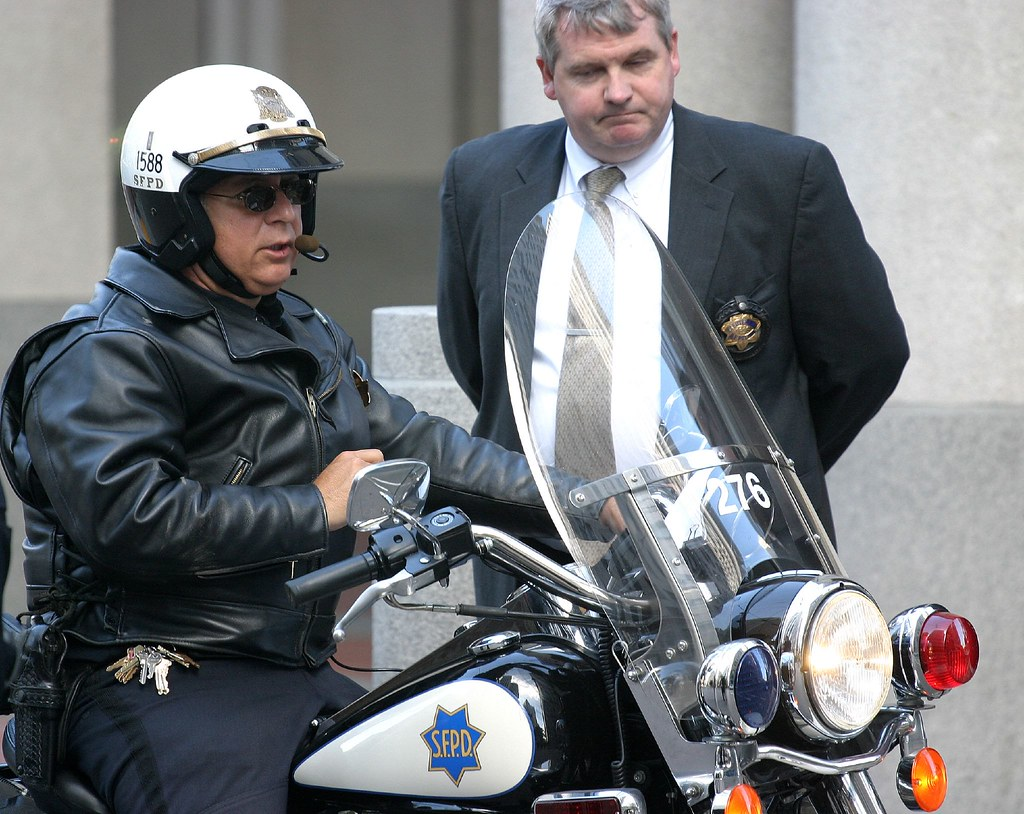helmet: (113, 60, 340, 185)
